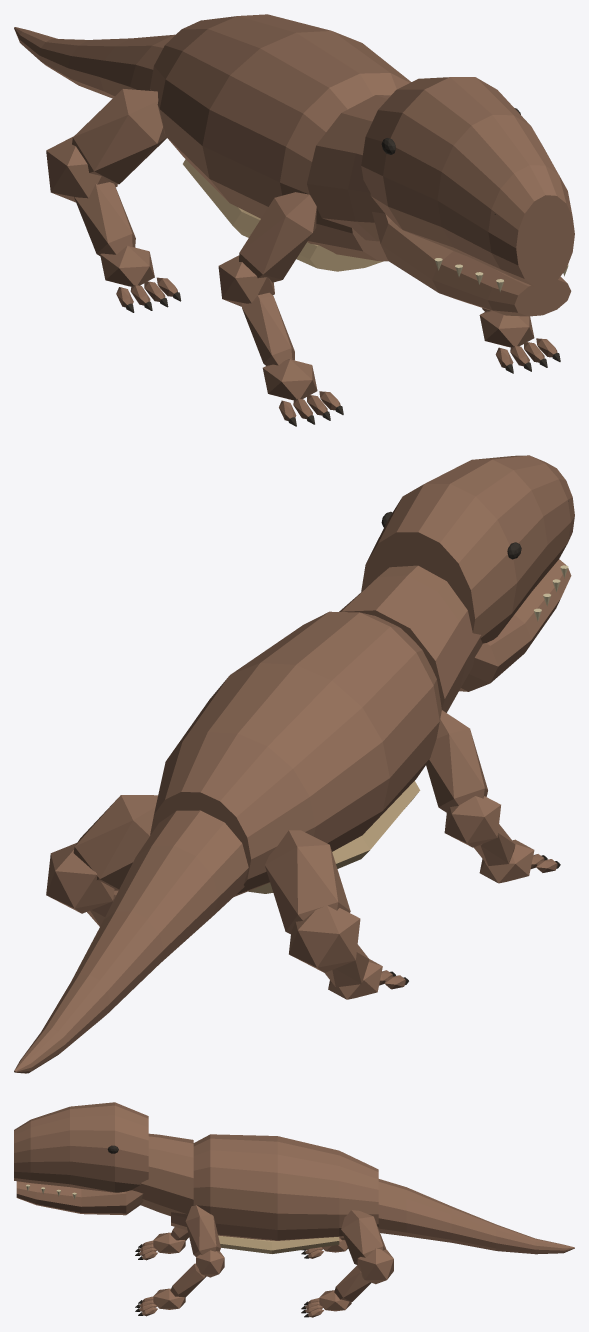
3 renders of one model, top to bottom at view 1: azimuth 30°, elevation 25°; view 2: azimuth 150°, elevation 25°; view 3: azimuth 270°, elevation 25°, orthographic. The views are drawn at different scales.
Parts seen in each view (by area): view 1: surface_muted_rust, surface_warm_underside, surface_eyes_claws; view 2: surface_muted_rust, surface_warm_underside; view 3: surface_muted_rust, surface_warm_underside, surface_eyes_claws.
Part boxes in pixels (left/top/right/bottom): surface_muted_rust: left=14, top=14, right=574, bottom=420; surface_warm_underside: left=183, top=159, right=383, bottom=271; surface_eyes_claws: left=126, top=108, right=560, bottom=426; surface_muted_rust: left=14, top=455, right=574, bottom=1073; surface_warm_underside: left=248, top=781, right=420, bottom=893; surface_muted_rust: left=14, top=1102, right=574, bottom=1317; surface_warm_underside: left=218, top=1235, right=339, bottom=1253; surface_eyes_claws: left=107, top=1145, right=309, bottom=1317.
Bounding box in the file's own units: 0.332 × 0.3472 × 1.
